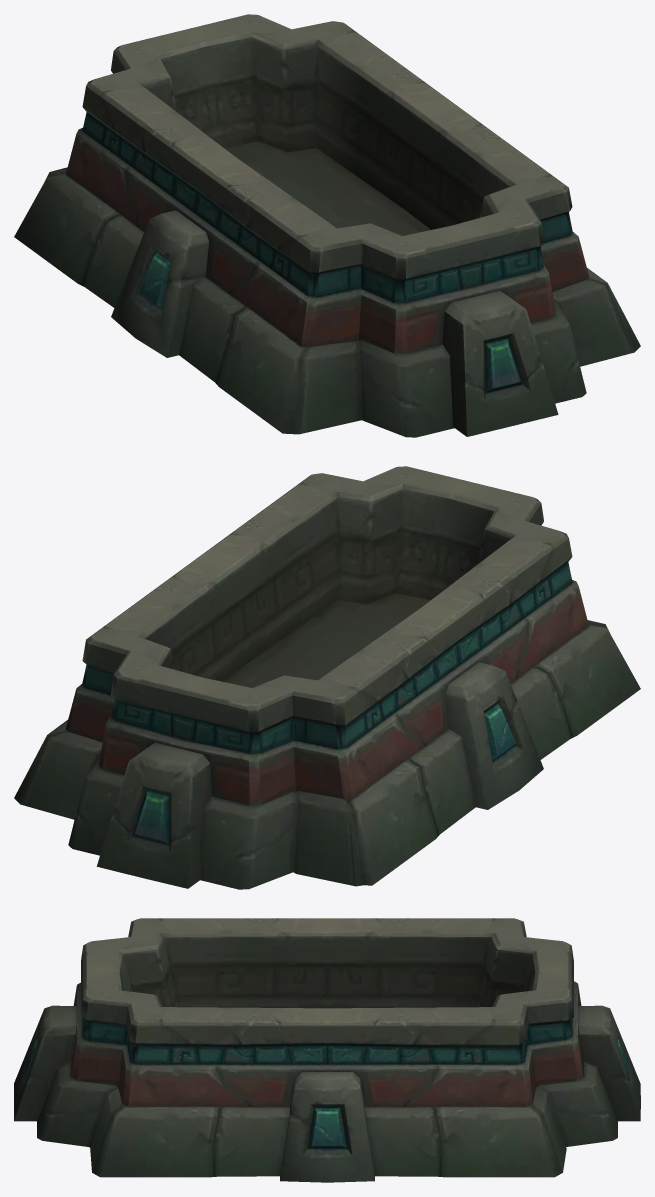
3 views of the same model, one above another, from view 1: azimuth 30°, elevation 25°; view 2: azimuth 150°, elevation 25°; view 3: azimuth 270°, elevation 25° (orthographic). The views are drawn at different scales.
Bounding box in the file's own units: 3.65 × 1.44 × 6.11.
1 material, 1 textured.
